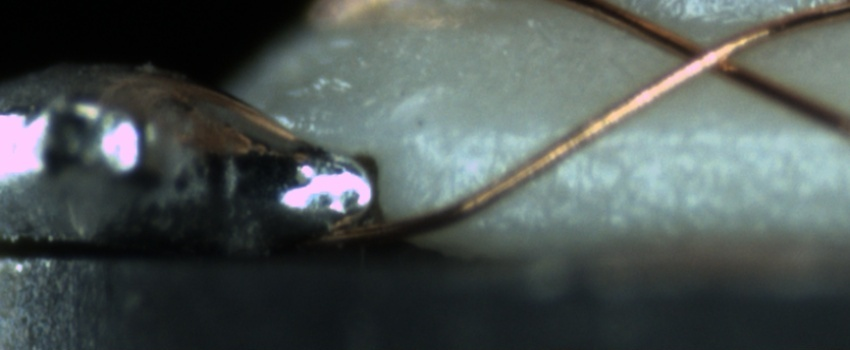CL: (653, 22, 757, 89)
DL: (483, 105, 850, 169)
